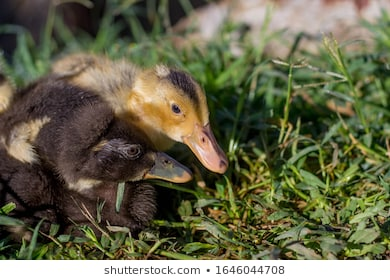duck: (43, 108, 206, 208), (127, 54, 249, 176)
